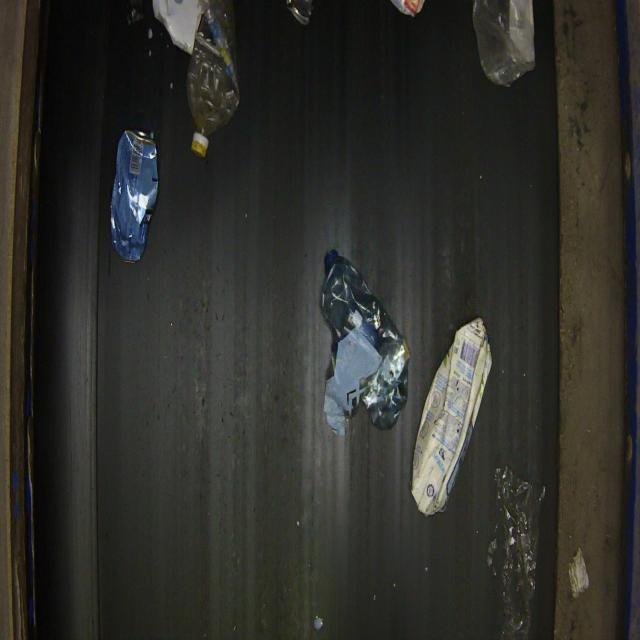Metal-waste: (409, 316, 493, 516)
other-trash: (318, 248, 410, 436), (108, 127, 160, 263)
